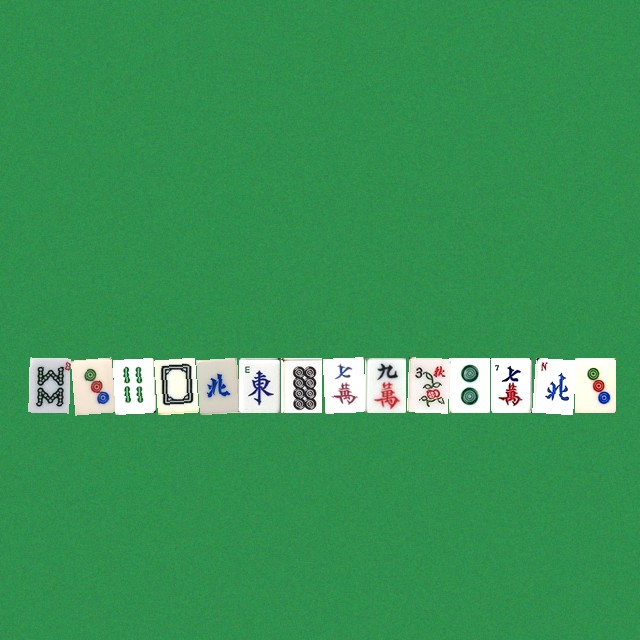tile: (28, 357, 69, 412), (70, 357, 111, 412), (112, 357, 153, 412), (154, 357, 195, 412), (196, 357, 237, 412), (238, 357, 279, 412), (280, 357, 321, 412), (322, 357, 363, 412), (364, 357, 405, 412), (406, 357, 447, 412), (448, 357, 489, 412), (490, 357, 531, 412), (532, 357, 573, 412), (574, 357, 615, 412)
